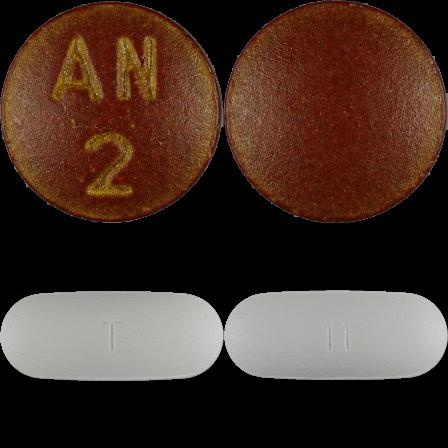68788-9537: (0, 0, 224, 224)
